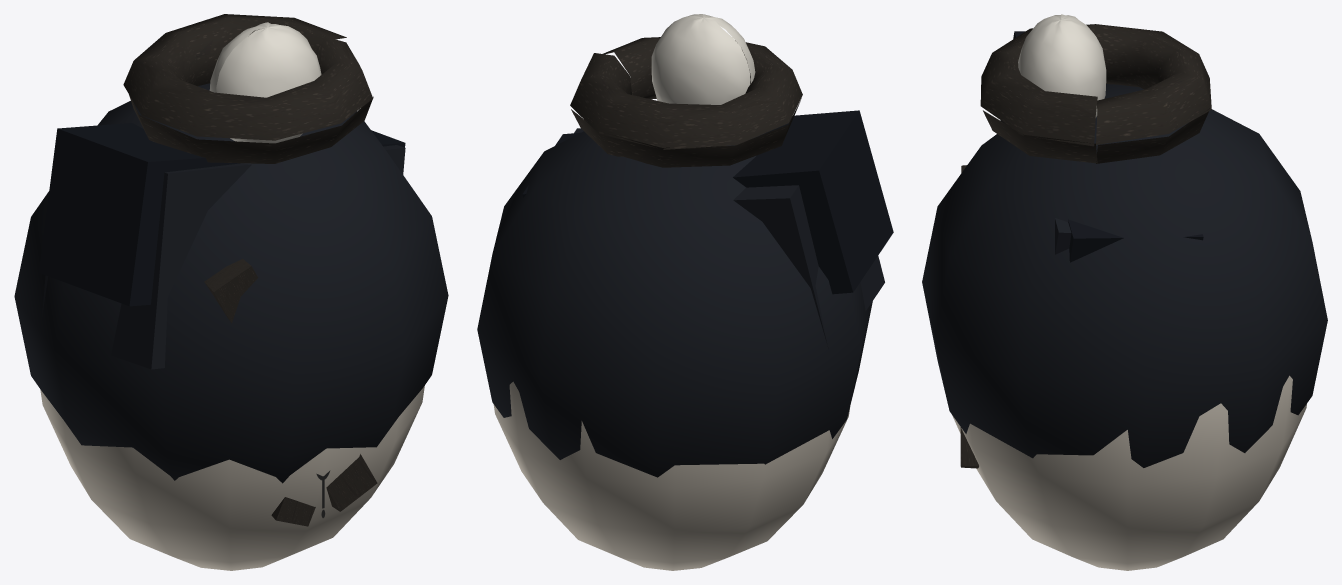
Rendered from character-comparison-pebble-hybrid-v1.glb.
3 renders of one model, left to right at view 1: azimuth 30°, elevation 25°; view 2: azimuth 150°, elevation 25°; view 3: azimuth 270°, elevation 25°, orthographic. The views are drawn at different scales.
Parts seen in each view (by area): view 1: Pebble hybrid; view 2: Pebble hybrid; view 3: Pebble hybrid.
Boxes of the visible parts, x1,y1,x2,y2 form: Pebble hybrid: (14, 14, 448, 570); Pebble hybrid: (477, 14, 893, 570); Pebble hybrid: (922, 14, 1327, 570).
Bounding box in the file's own units: 3.09 × 4.31 × 2.95.
Materials: 7 (2 with a texture image).
